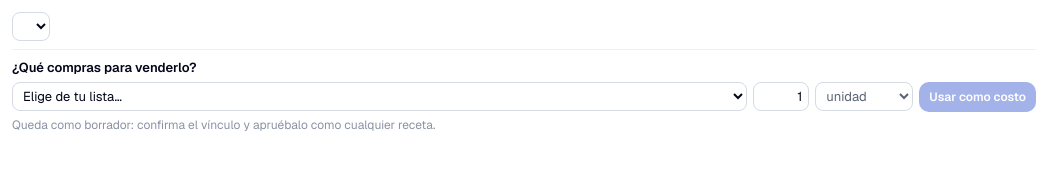
Test case: TreatmentPanel inline price › unit dropdowns list the Spanish units and never «unit»
This screenshot has width=1048, height=189.
Select "BEBIDA" in the dropdown "Elige de tu lista…" at (380, 96), box [12,82,747,111]
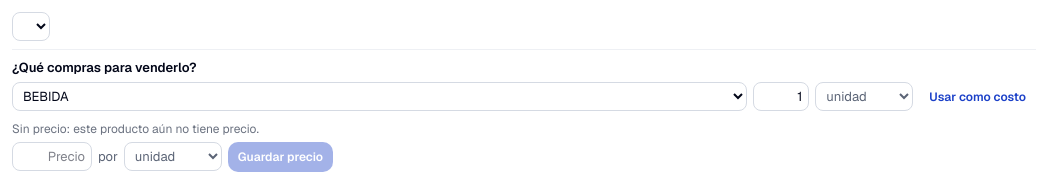
Expected: the dropdown named "Unidad de la cantidad" shows "unidad", [815,82,913,111]
Now the dropdown named "Unidad del precio" shows "unidad", box [124,142,222,171]
